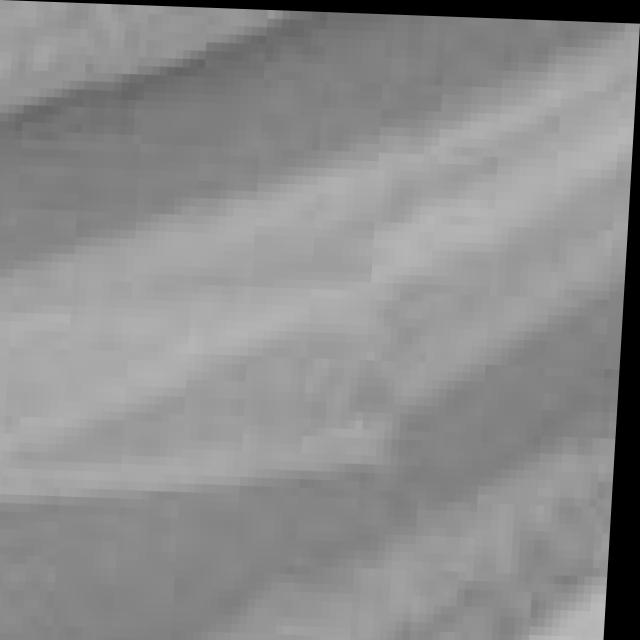fracture: (0, 20, 623, 640)
